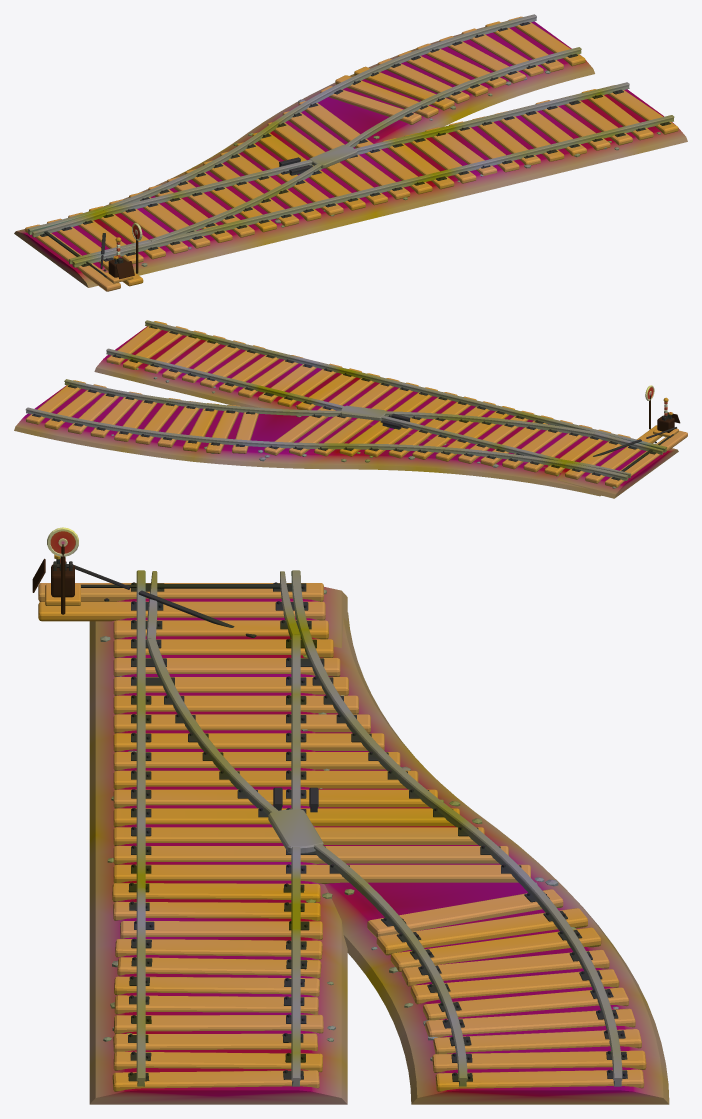
Rendered from Track_Switch_20m_B.glb.
3 renders of one model, top to bottom at view 1: azimuth 30°, elevation 25°; view 2: azimuth 150°, elevation 25°; view 3: azimuth 270°, elevation 25°, orthographic. The views are drawn at different scales.
Visible parts, largest first — view 1: Track_Switch_20m_B, Blade_S; view 2: Track_Switch_20m_B, Blade_D, Broken_Bits; view 3: Track_Switch_20m_B, Broken_Bits, Switch_Target.
Part boxes in pixels (x1=…): Track_Switch_20m_B: x1=14, y1=14, x2=687, y2=291; Blade_S: x1=32, y1=210, x2=105, y2=237; Track_Switch_20m_B: x1=14, y1=320, x2=687, y2=498; Blade_D: x1=593, y1=432, x2=663, y2=454; Broken_Bits: x1=581, y1=411, x2=680, y2=460; Track_Switch_20m_B: x1=38, y1=561, x2=669, y2=1104; Broken_Bits: x1=32, y1=558, x2=256, y2=637; Switch_Target: x1=47, y1=527, x2=78, y2=614.
Size of the model in its own units: 20 by 1.96 by 10.61.
